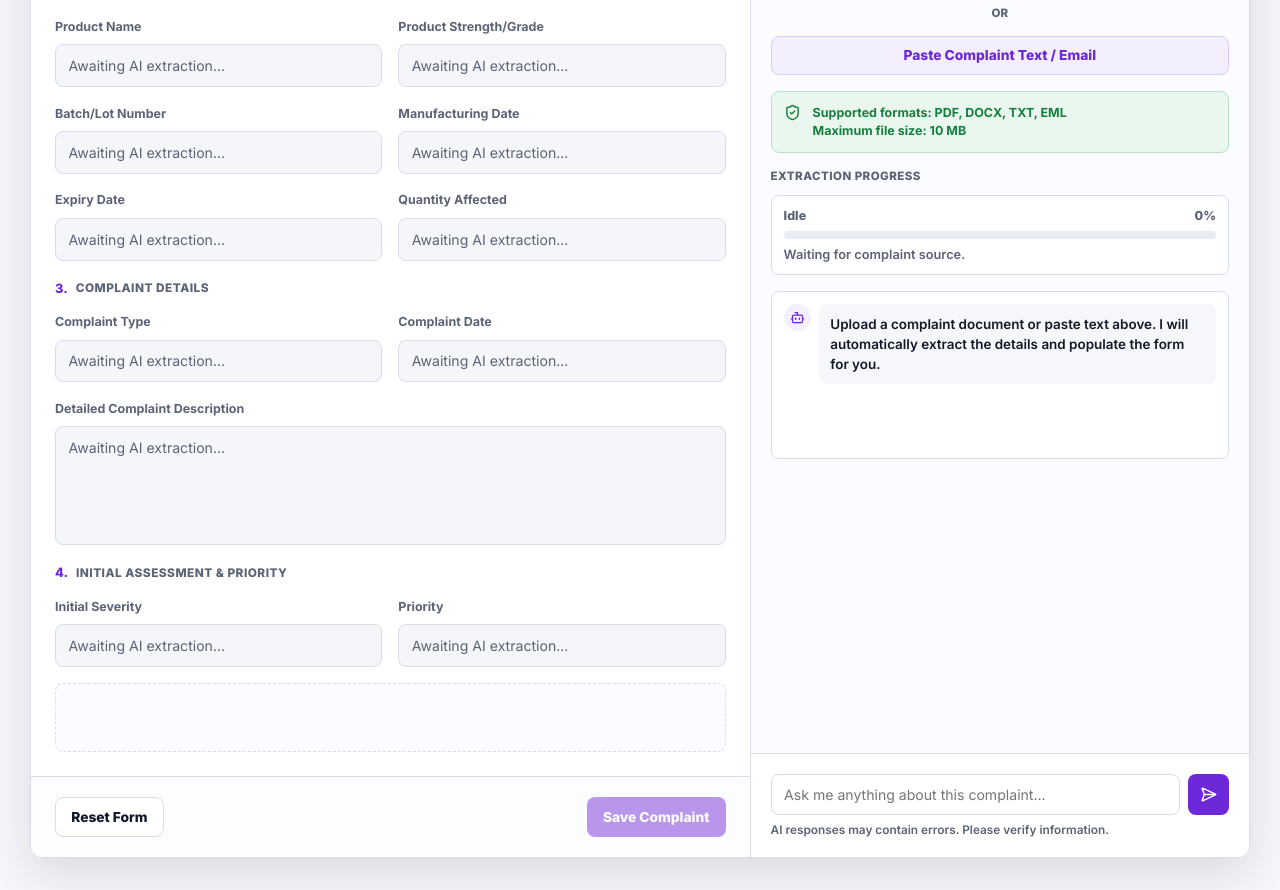
Scenario: App › same composer handles assistant messages
This screenshot has width=1280, height=890.
(page scrolled)
In the field with test id "complaint-chat-input": (975, 794) [771, 774, 1180, 815], type "What information is missing?"
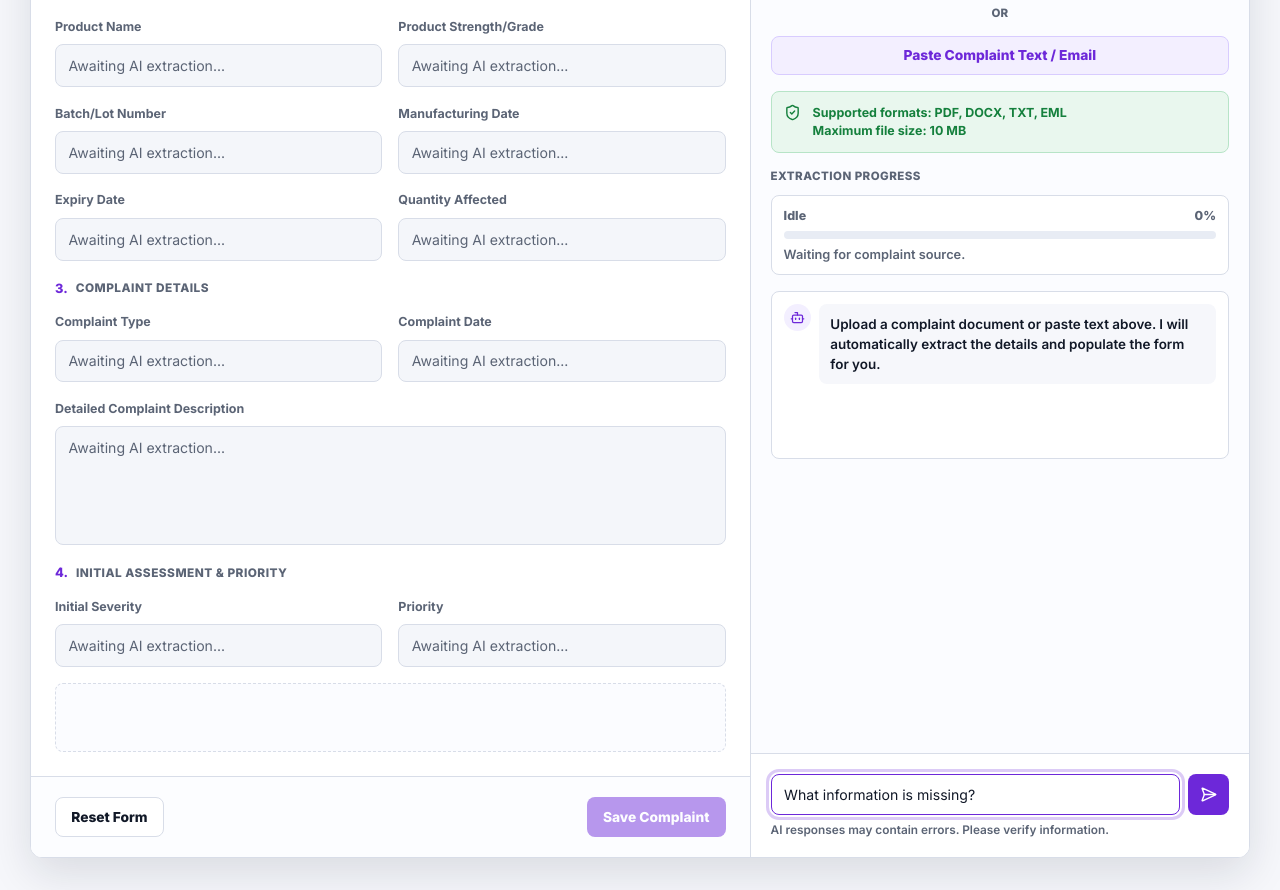
Click the button named "Send assistant message": (1209, 794) [1188, 774, 1229, 815]
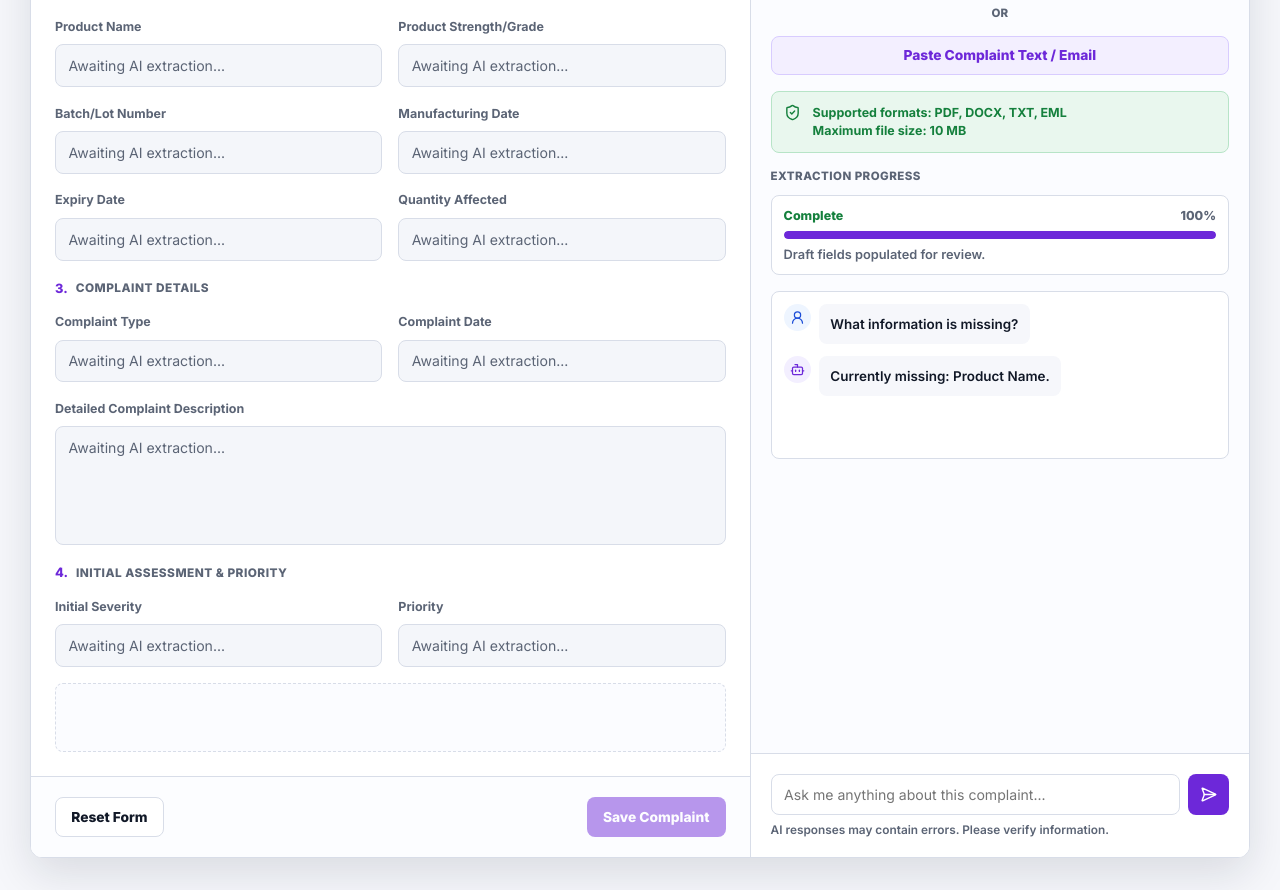
Expected: the number of fields with test id "complaint-chat-input" is 1, [771, 774, 1180, 815]
Expected: the text "Currently missing: Product Name." is shown, [819, 356, 1061, 396]
